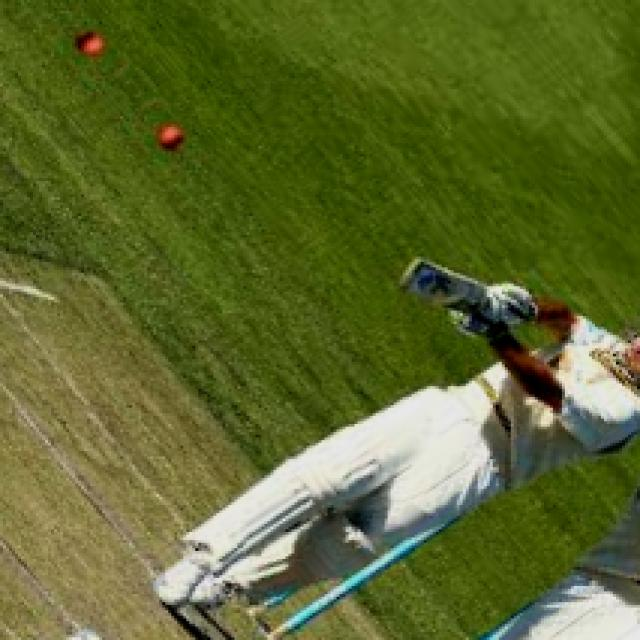toe: (397, 246, 437, 291)
